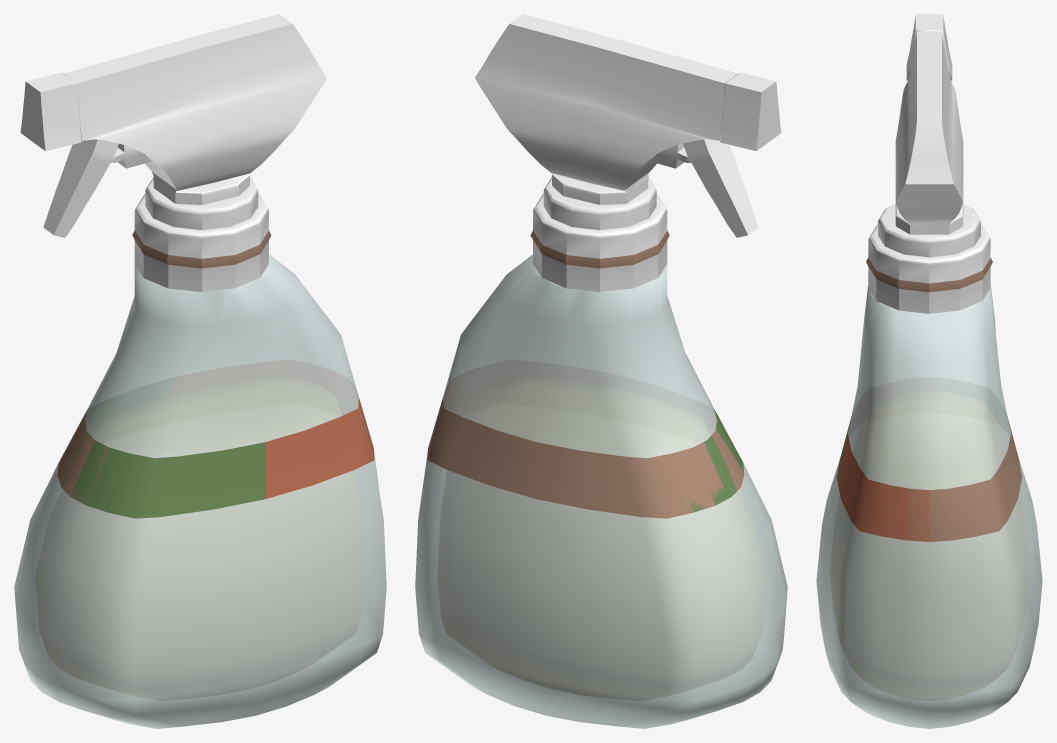
File: Extrato de hortelã-pimenta.fbx
The picture shows the model from 3 angles, left to right: view 1: azimuth 30°, elevation 25°; view 2: azimuth 150°, elevation 25°; view 3: azimuth 270°, elevation 25°; orthographic projection. The views are drawn at different scales.
Parts seen in each view (by area): view 1: Borrifador_hortelapimenta_MESH, Borrifador_alho_MESH, Borrifador_disparador_MESH, Gatilho_MESH; view 2: Borrifador_alho_MESH, Borrifador_hortelapimenta_MESH, Borrifador_disparador_MESH, Gatilho_MESH; view 3: Borrifador_alho_MESH, Borrifador_hortelapimenta_MESH, Borrifador_disparador_MESH.
Part boxes in pixels (x1=…): Borrifador_hortelapimenta_MESH: x1=14, y1=254, x2=386, y2=728; Borrifador_alho_MESH: x1=14, y1=255, x2=386, y2=728; Borrifador_disparador_MESH: x1=20, y1=14, x2=326, y2=292; Gatilho_MESH: x1=43, y1=139, x2=151, y2=237; Borrifador_alho_MESH: x1=415, y1=254, x2=787, y2=728; Borrifador_hortelapimenta_MESH: x1=415, y1=255, x2=787, y2=728; Borrifador_disparador_MESH: x1=475, y1=14, x2=781, y2=292; Gatilho_MESH: x1=650, y1=139, x2=758, y2=237; Borrifador_alho_MESH: x1=816, y1=286, x2=1042, y2=728; Borrifador_hortelapimenta_MESH: x1=816, y1=286, x2=1042, y2=728; Borrifador_disparador_MESH: x1=866, y1=14, x2=992, y2=313.
Size of the model in its own units: 19.36 by 36.07 by 12.56.
